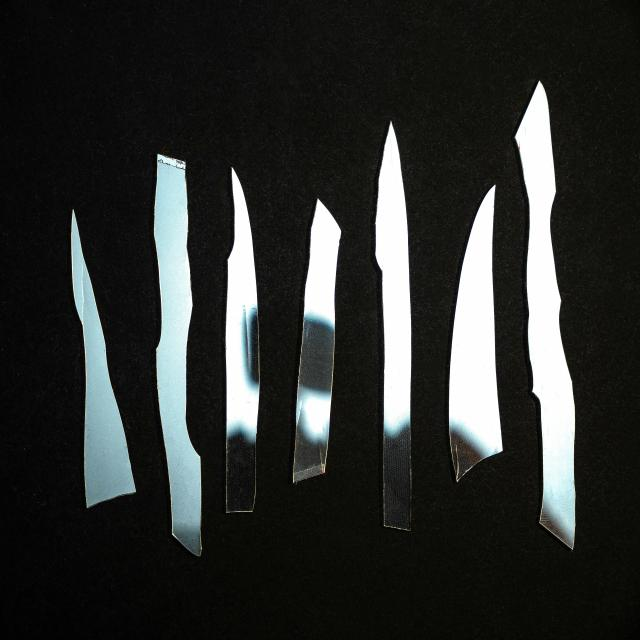electronic: (67, 71, 577, 563)
